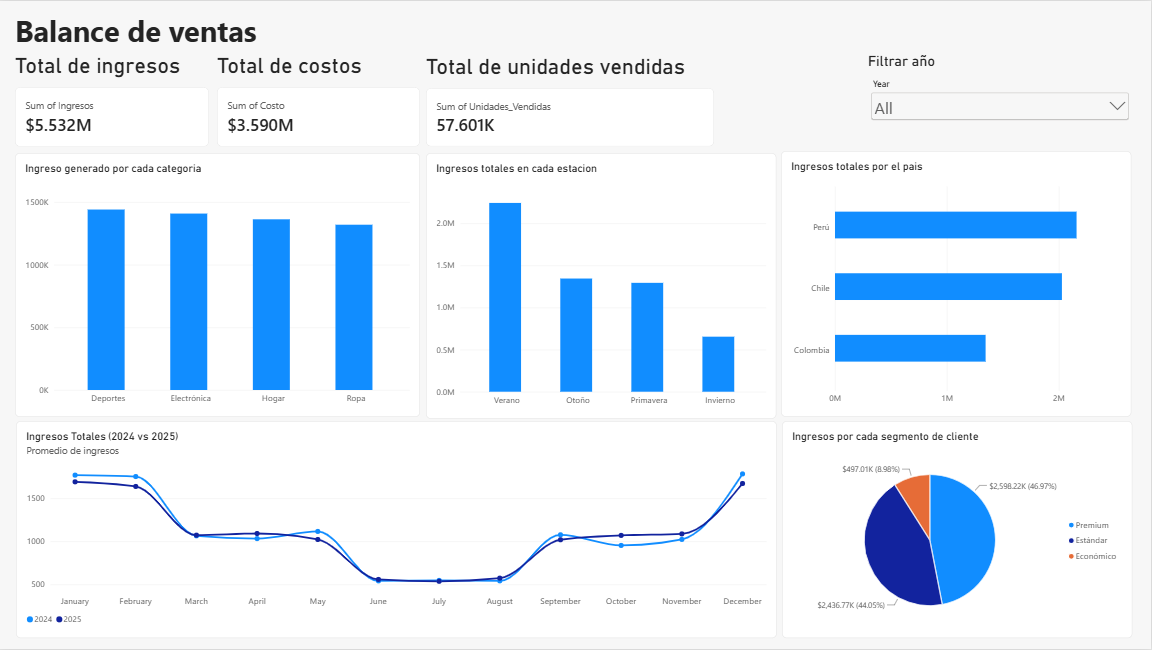

The page's visual inventory and layout, read from the dashboard file:
{"tool":"powerbi","page":{"name":"OverView","canvas":[1920,1080],"ordinal":0},"visuals":[{"type":"textbox","box":[27.1,17.1,481.4,91.4],"z":0},{"type":"cardVisual","title":"Total de ingresos","fields":{"Data":["Sum(Andes_Retail_Group_2024_2025.Ingresos)"]},"box":[26.7,86.7,323.3,156.7],"z":1000},{"type":"cardVisual","title":"Total de costos","fields":{"Data":["Sum(Andes_Retail_Group_2024_2025.Costo)"]},"box":[363.3,86.7,338.3,156.7],"z":2000},{"type":"cardVisual","title":"Total de unidades vendidas","fields":{"Data":["Sum(Andes_Retail_Group_2024_2025.Unidades_Vendidas)"]},"box":[711.4,87.1,451.4,155.7],"z":3000},{"type":"slicer","title":"Filtrar año","fields":{"Values":["Andes_Retail_Group_2024_2025.Fecha_Pedido.Variation.Date Hierarchy.Year"]},"box":[1448.3,86.7,440,117.1],"z":4000},{"type":"lineChart","title":"Ingresos Totales (2024 vs 2025)","fields":{"Category":["Andes_Retail_Group_2024_2025.Fecha_Pedido.Variation.Date Hierarchy.Month"],"Series":["Andes_Retail_Group_2024_2025.Fecha_Pedido.Variation.Date Hierarchy.Year"],"Y":["Avg(Andes_Retail_Group_2024_2025.Ingresos)"]},"box":[28.3,700,1268.3,361.7],"z":5000},{"type":"clusteredBarChart","title":"Ingresos totales por el pais","fields":{"Category":["Andes_Retail_Group_2024_2025.País"],"Y":["Sum(Andes_Retail_Group_2024_2025.Ingresos)"]},"box":[1302.9,250,584.3,442.9],"z":6000},{"type":"clusteredColumnChart","title":"Ingreso generado por cada categoria","fields":{"Category":["Andes_Retail_Group_2024_2025.Categoría_Producto"],"Y":["Sum(Andes_Retail_Group_2024_2025.Ingresos)"]},"box":[26.7,253.3,675,440],"z":7000},{"type":"clusteredColumnChart","title":"Ingresos totales en cada estacion","fields":{"Category":["Andes_Retail_Group_2024_2025.Estación"],"Y":["Sum(Andes_Retail_Group_2024_2025.Ingresos)"]},"box":[711.4,252.9,584.3,442.9],"z":8000},{"type":"pieChart","title":"Ingresos por cada segmento de cliente","fields":{"Category":["Andes_Retail_Group_2024_2025.Segmento_Cliente"],"Y":["Sum(Andes_Retail_Group_2024_2025.Ingresos)"]},"box":[1305,700,584,362],"z":9000}]}

Visuals, with their boxes in screenshot pixels (x1, y1, x2, y2), scaled from the page's 1920x1080 canvas onto the 1152x650 screenshot:
textbox: bbox=(16, 10, 305, 65)
"Total de ingresos" cardVisual: bbox=(16, 52, 210, 146)
"Total de costos" cardVisual: bbox=(218, 52, 421, 146)
"Total de unidades vendidas" cardVisual: bbox=(427, 52, 698, 146)
"Filtrar año" slicer: bbox=(869, 52, 1133, 123)
"Ingresos Totales (2024 vs 2025)" lineChart: bbox=(17, 421, 778, 639)
"Ingresos totales por el pais" clusteredBarChart: bbox=(782, 150, 1132, 417)
"Ingreso generado por cada categoria" clusteredColumnChart: bbox=(16, 152, 421, 417)
"Ingresos totales en cada estacion" clusteredColumnChart: bbox=(427, 152, 777, 419)
"Ingresos por cada segmento de cliente" pieChart: bbox=(783, 421, 1133, 639)
